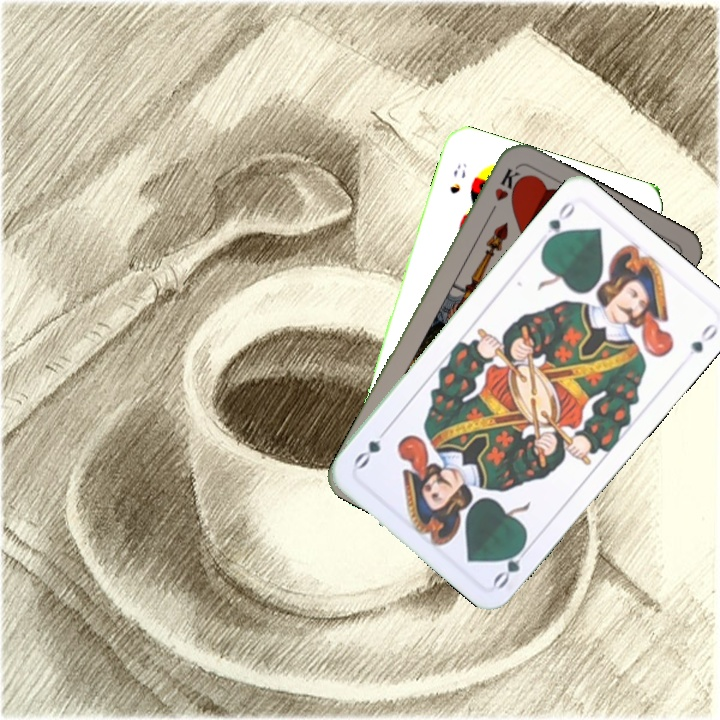GO: (488, 537, 535, 591), (539, 197, 578, 249)
HK: (484, 164, 524, 219)
S8: (446, 159, 469, 197)
